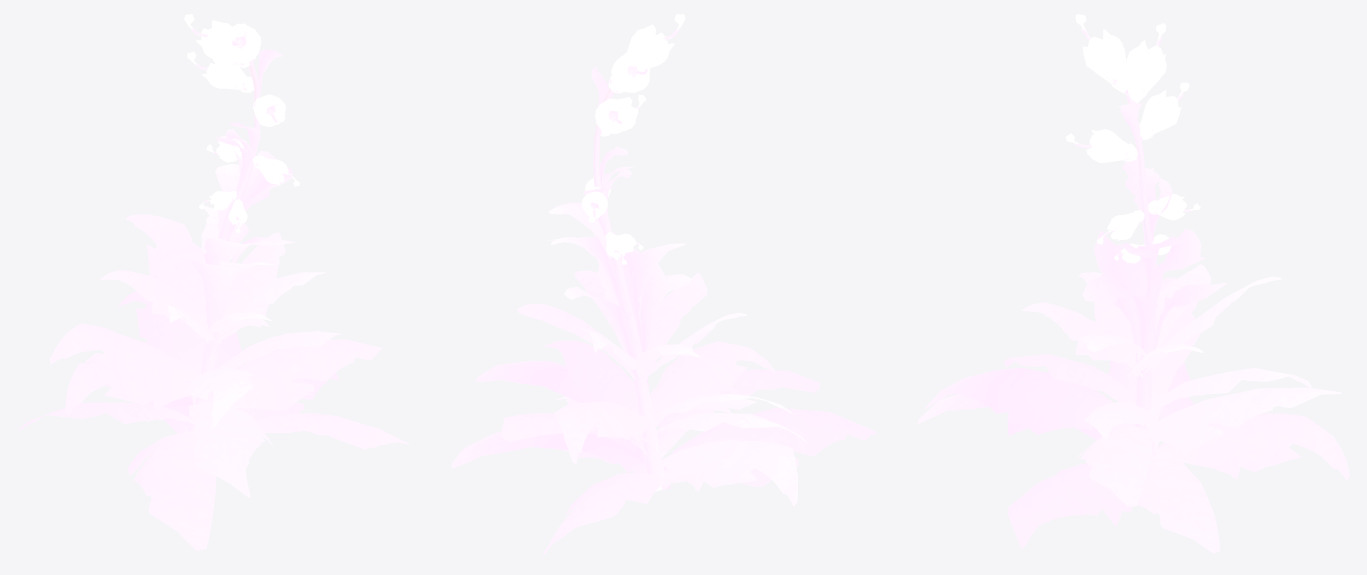
3 renders of one model, left to right at view 1: azimuth 30°, elevation 25°; view 2: azimuth 150°, elevation 25°; view 3: azimuth 270°, elevation 25°, orthographic. The views are drawn at different scales.
Parts seen in each view (by area): view 1: SM_GF_Fox_Glove_01_LOD0; view 2: SM_GF_Fox_Glove_01_LOD0; view 3: SM_GF_Fox_Glove_01_LOD0.
Boxes of the visible parts, x1=… form: SM_GF_Fox_Glove_01_LOD0: x1=18, y1=14, x2=410, y2=550; SM_GF_Fox_Glove_01_LOD0: x1=451, y1=14, x2=875, y2=555; SM_GF_Fox_Glove_01_LOD0: x1=917, y1=14, x2=1349, y2=553.
Bounding box in the file's own units: 0.4381 × 0.536 × 0.4591.
1 material, 1 textured.
